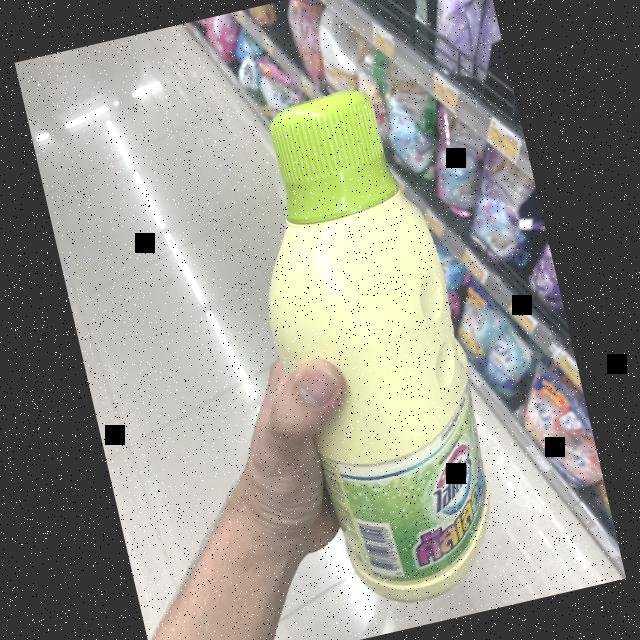chemical_plastic_bottle: (208, 64, 530, 627)
